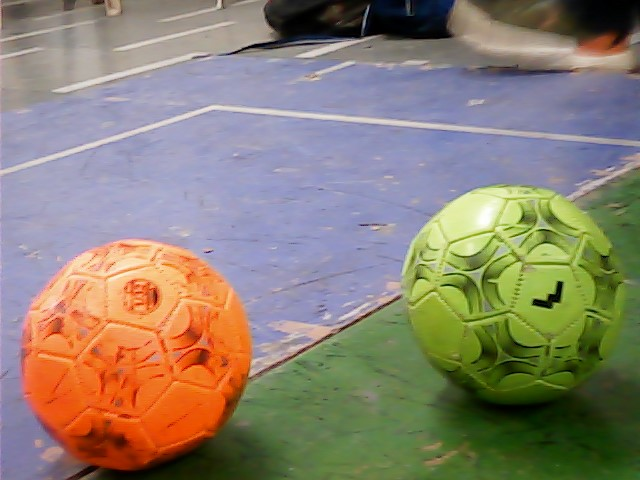Green_ball: (395, 180, 626, 407)
Orange_ball: (15, 238, 272, 474)
